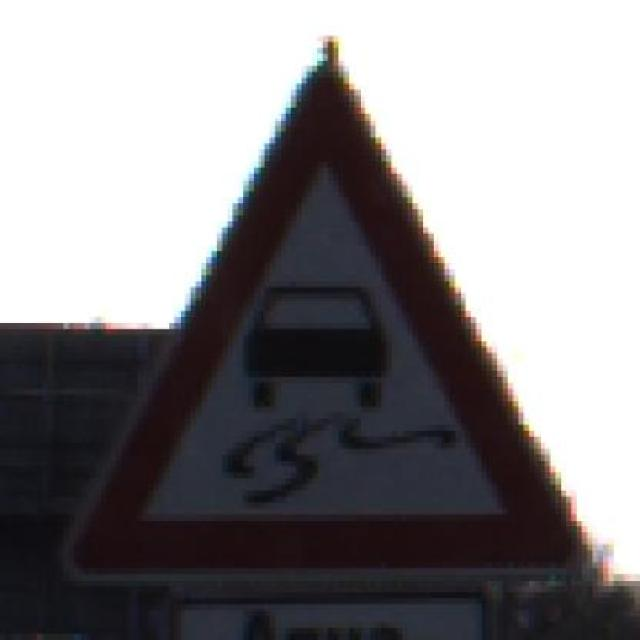Slippery Road Ahead: (64, 36, 608, 586)
